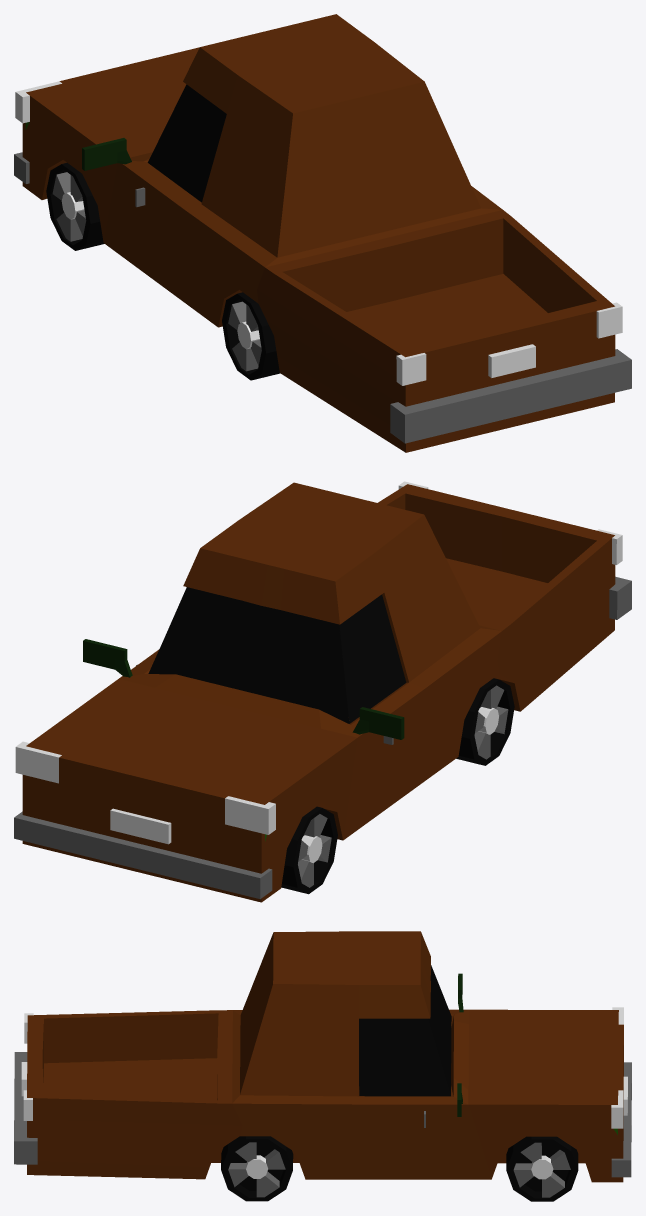
File: car_2.fbx
3 views of the same model, one above another, from view 1: azimuth 30°, elevation 25°; view 2: azimuth 150°, elevation 25°; view 3: azimuth 270°, elevation 25° (orthographic). The views are drawn at different scales.
Visible parts, largest first — view 1: Cube.001; view 2: Cube.001; view 3: Cube.001.
Boxes of the visible parts, x1,y1,x2,y2 form: Cube.001: (14, 14, 631, 452); Cube.001: (14, 481, 631, 902); Cube.001: (14, 931, 631, 1201).
Bounding box in the file's own units: 266 × 191 × 550.
